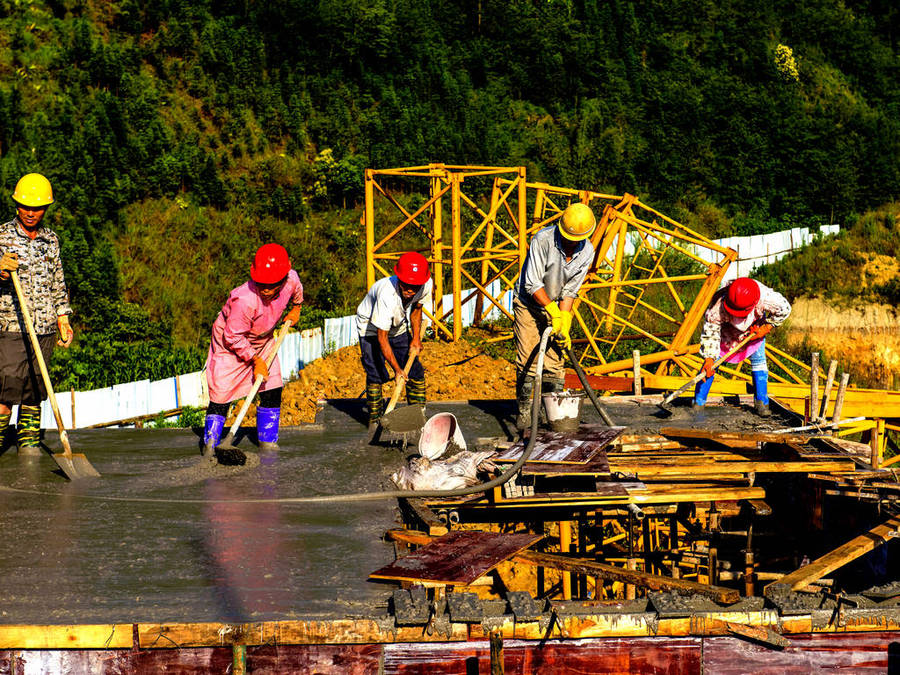safetyhat: (197, 241, 313, 469), (499, 195, 616, 414), (1, 161, 84, 443), (336, 246, 447, 424), (675, 260, 790, 424)
